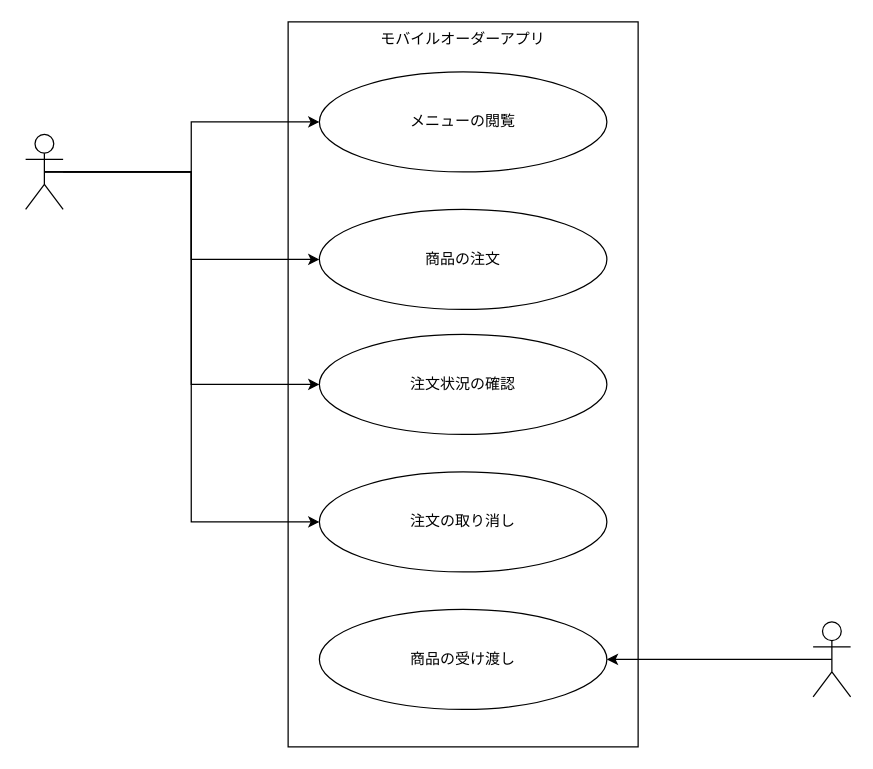
This 873x769 diagram has some shape labels left out. The centre of each missing label's shape, as x and y in pixels:
お客様: (43,171)
店員: (831,659)
